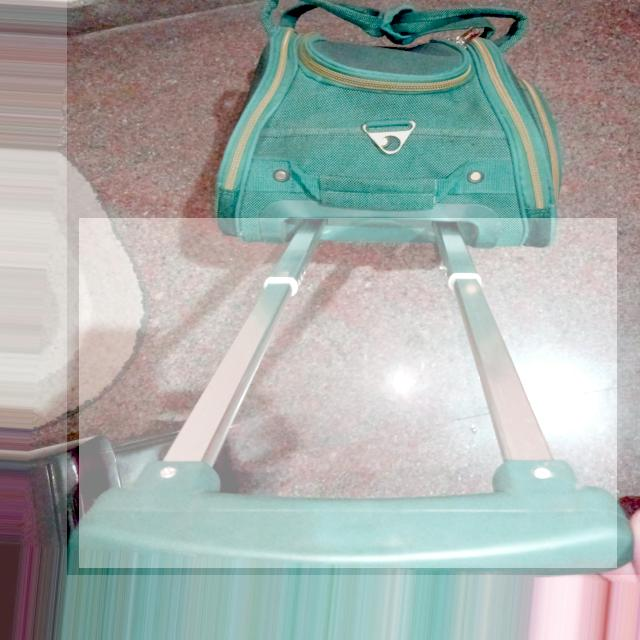Bag: (62, 0, 640, 587)
Handle: (73, 186, 626, 585)
